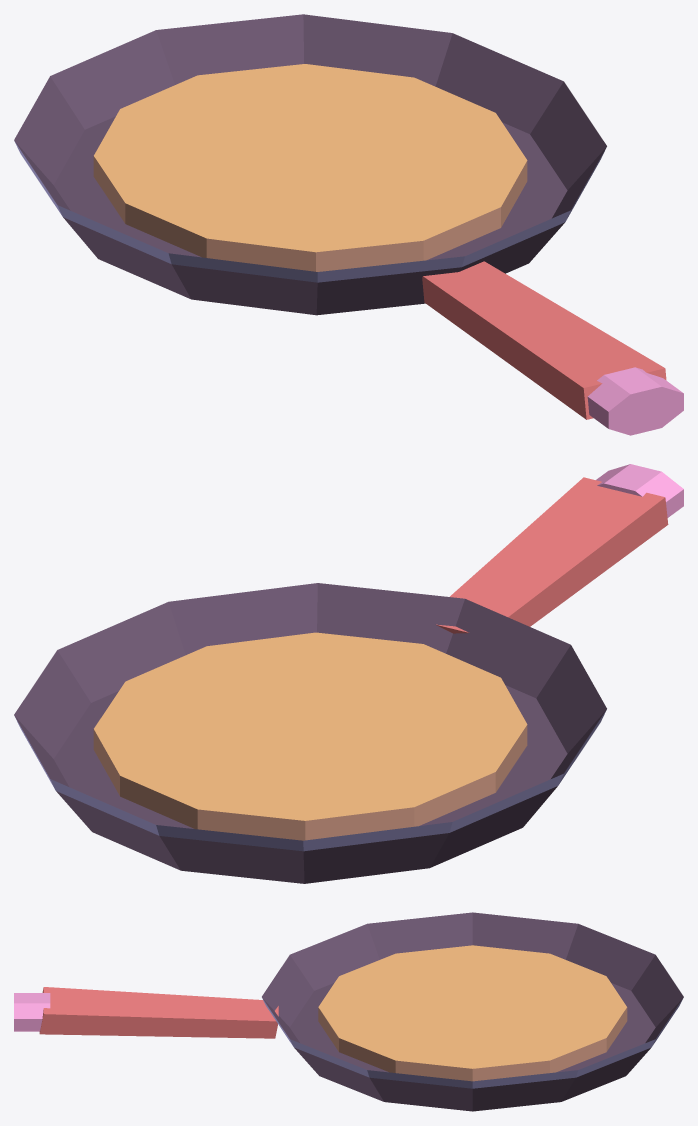
File: pan_splat.glb
3 views of the same model, one above another, from view 1: azimuth 30°, elevation 25°; view 2: azimuth 150°, elevation 25°; view 3: azimuth 270°, elevation 25° (orthographic). The views are drawn at different scales.
Parts seen in each view (by area): view 1: Pan, Pancake; view 2: Pan, Pancake; view 3: Pan, Pancake.
Part boxes in pixels (<box>): Pan: <box>14,14,683,435</box>; Pancake: <box>93,64,527,271</box>; Pan: <box>14,464,683,883</box>; Pancake: <box>93,632,527,840</box>; Pan: <box>14,912,683,1111</box>; Pancake: <box>318,945,627,1081</box>.
Size of the model in its own units: 0.8184 by 0.0989 by 1.37.
